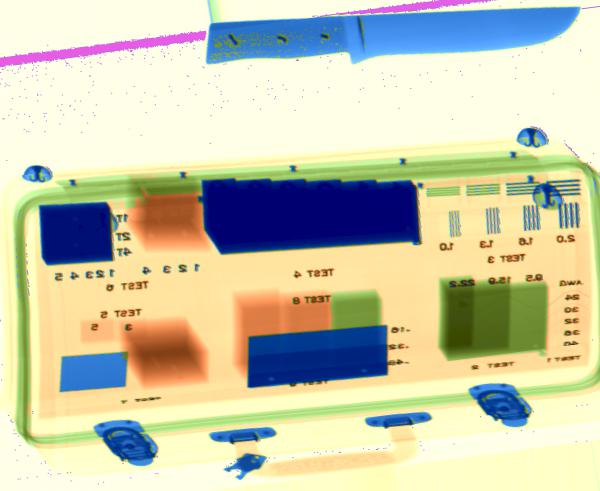Knife: (204, 5, 584, 66)
